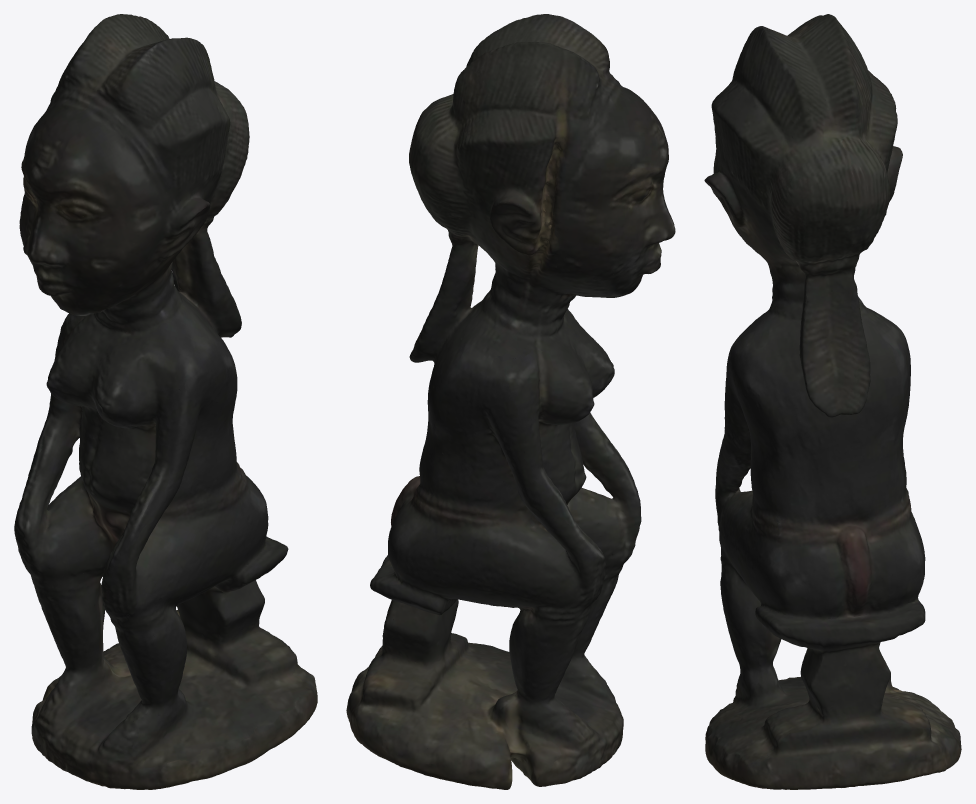
Rendered from preview.glb.
3 views of the same model, side by side, from view 1: azimuth 30°, elevation 25°; view 2: azimuth 150°, elevation 25°; view 3: azimuth 270°, elevation 25° (orthographic).
Parts seen in each view (by area): view 1: Object_2; view 2: Object_2; view 3: Object_2.
Boxes of the visible parts, box(x1,y1,x2,y2) form: Object_2: box(14, 14, 317, 789); Object_2: box(346, 14, 675, 789); Object_2: box(704, 14, 961, 789).
Bounding box in the file's own units: 114 × 278 × 90.17.
1 material, 1 textured.
